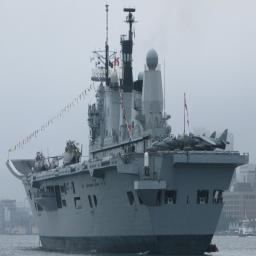Portanaves: (5, 28, 251, 255)
